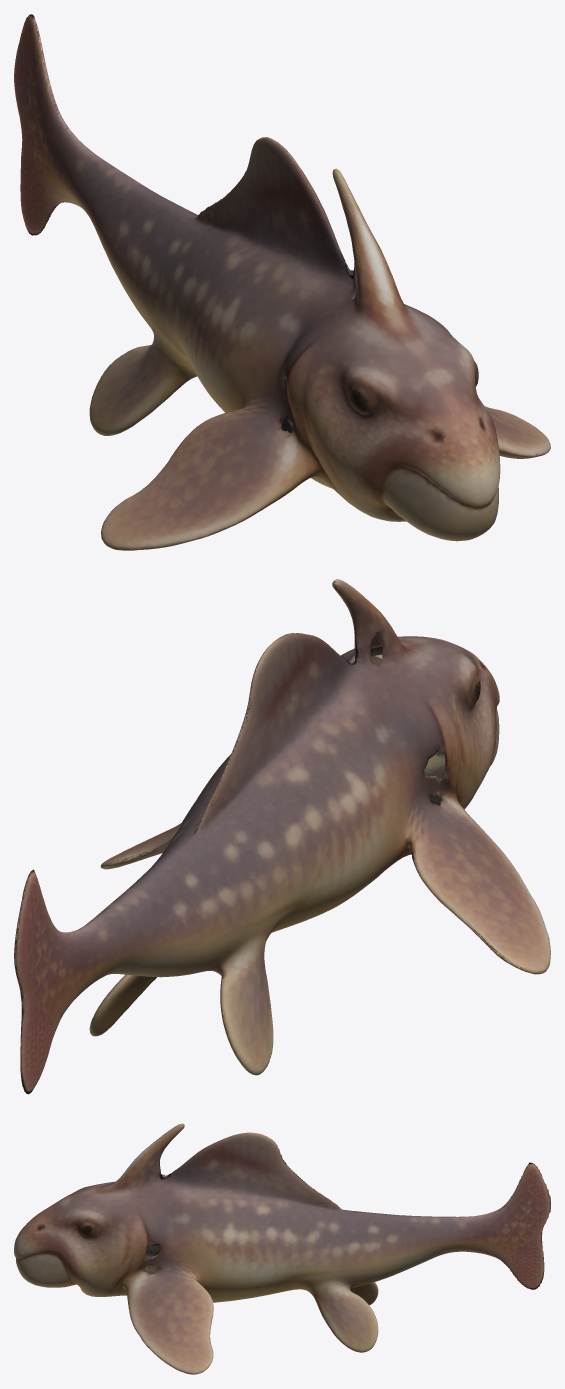
The picture shows the model from 3 angles, top to bottom: view 1: azimuth 30°, elevation 25°; view 2: azimuth 150°, elevation 25°; view 3: azimuth 270°, elevation 25°; orthographic projection. The views are drawn at different scales.
Visible parts, largest first — view 1: world; view 2: world; view 3: world.
Part boxes in pixels (left/top/right/bottom): world: left=14, top=14, right=550, bottom=550; world: left=14, top=579, right=550, bottom=1094; world: left=14, top=1123, right=550, bottom=1374.
Size of the model in its own units: 0.6502 by 0.5093 by 1.2.
Materials: 1 (1 with a texture image).
